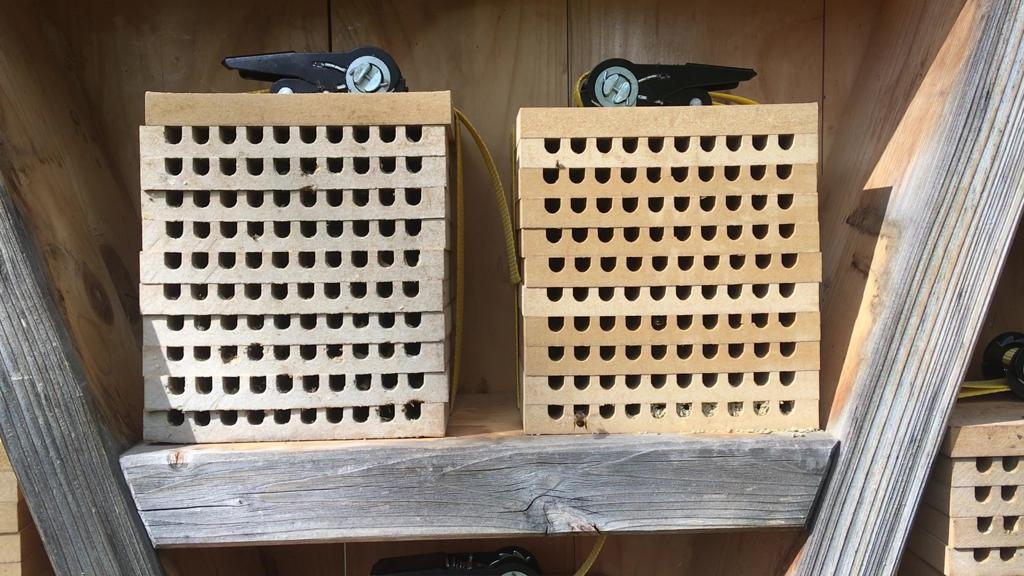bee: (645, 312, 673, 334)
